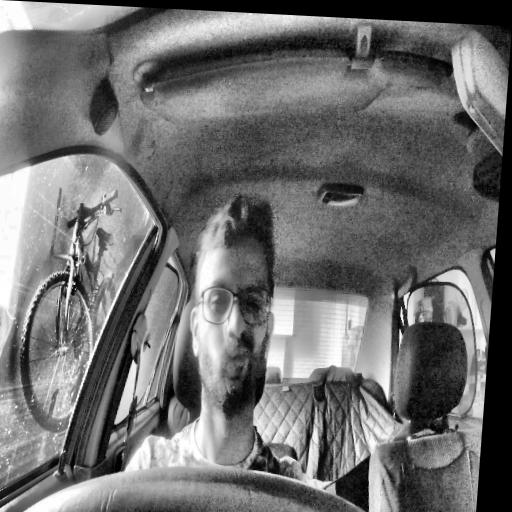awake: (183, 189, 283, 417)
